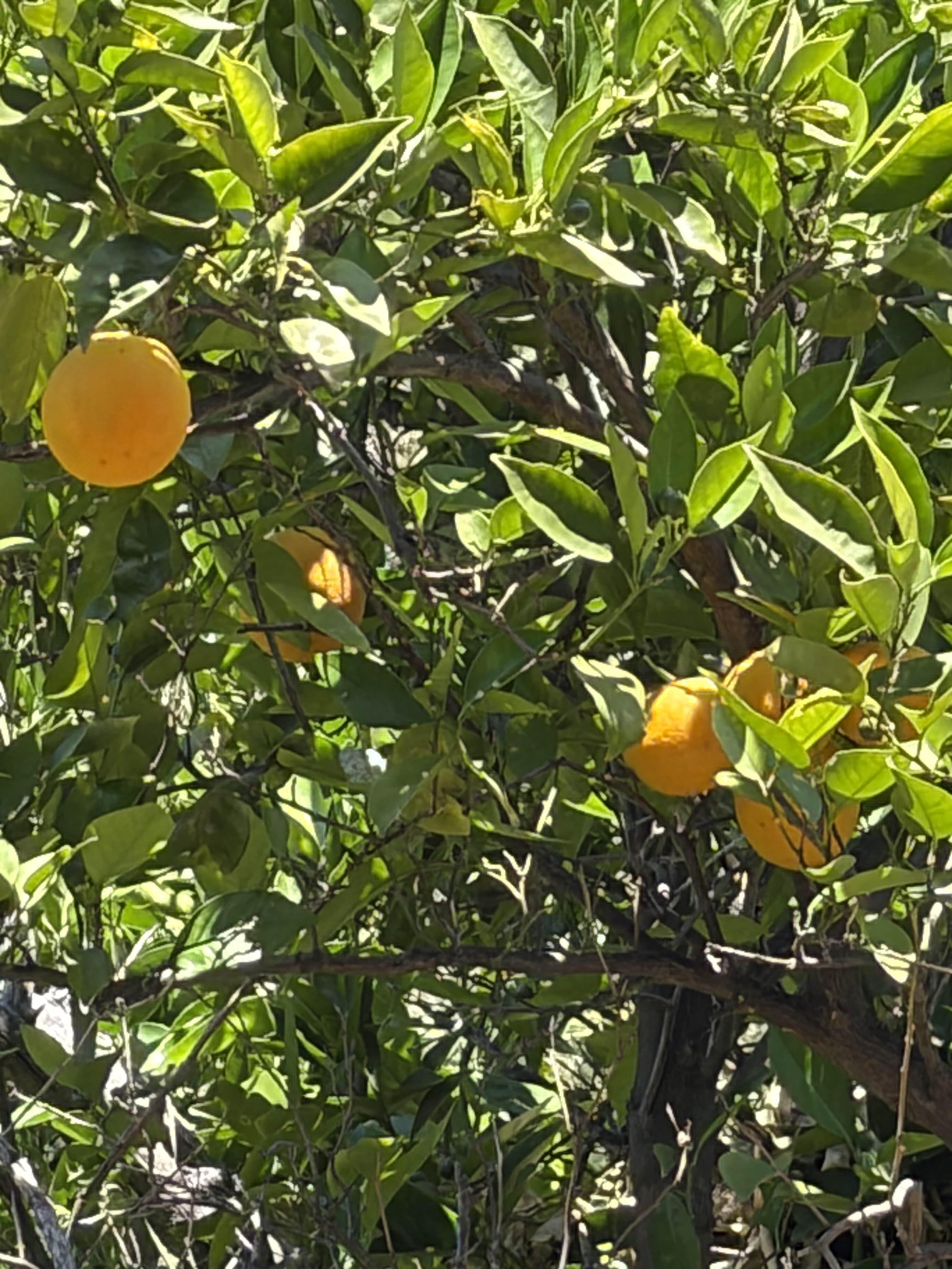orange: (41, 331, 192, 486), (240, 527, 368, 661), (623, 675, 733, 797), (830, 642, 940, 746), (735, 791, 860, 869), (724, 649, 814, 725)
